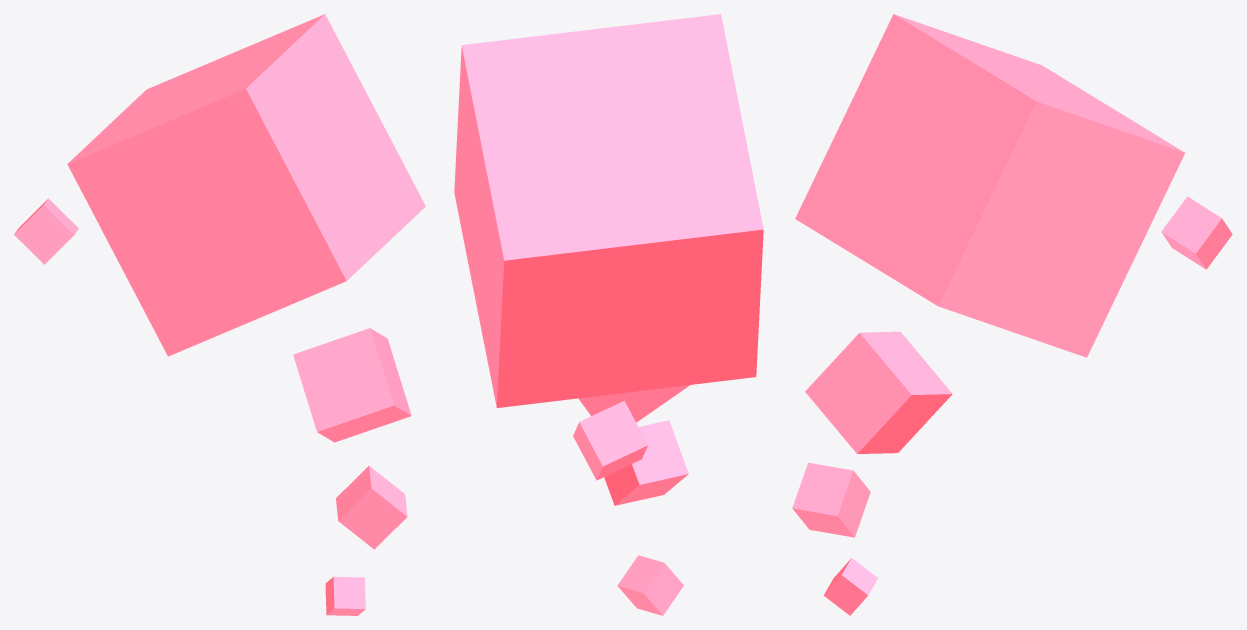
File: asset1.gltf
The picture shows the model from 3 angles, left to right: view 1: azimuth 30°, elevation 25°; view 2: azimuth 150°, elevation 25°; view 3: azimuth 270°, elevation 25°; orthographic projection. The views are drawn at different scales.
Visible parts, largest first — view 1: Cube, Cube.002, Cube.003, Cube.001, Cube.004; view 2: Cube, Cube.003, Cube.001, Cube.004, Cube.002; view 3: Cube, Cube.002, Cube.003, Cube.001, Cube.004.
Part boxes in pixels (x1,y1,x2,y2): Cube: (67, 14, 425, 356); Cube.002: (293, 328, 411, 442); Cube.003: (336, 466, 407, 549); Cube.001: (14, 198, 78, 264); Cube.004: (325, 576, 365, 615); Cube: (454, 14, 763, 407); Cube.003: (604, 420, 688, 505); Cube.001: (573, 400, 647, 480); Cube.004: (617, 555, 683, 615); Cube.002: (578, 385, 689, 422); Cube: (795, 14, 1184, 357); Cube.002: (805, 331, 952, 453); Cube.003: (792, 462, 870, 537); Cube.001: (1161, 196, 1232, 269); Cube.004: (823, 558, 877, 615).
Bounding box in the file's own units: 20.85 × 34.49 × 24.77.
